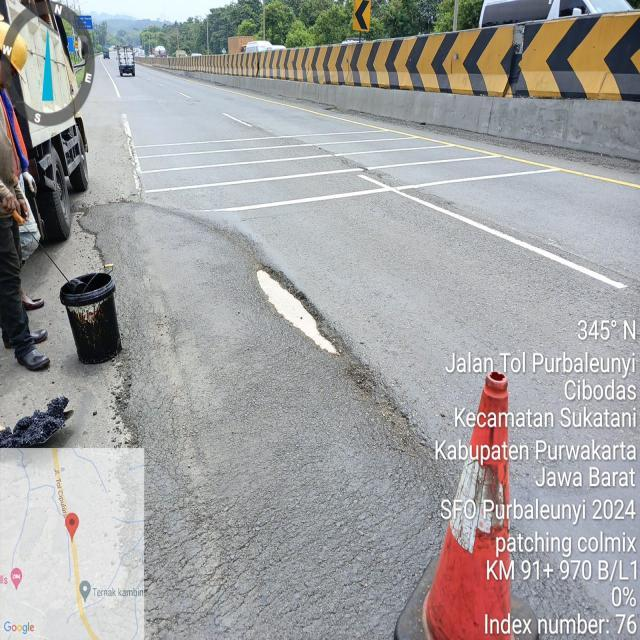Buraco: (248, 258, 356, 362)
